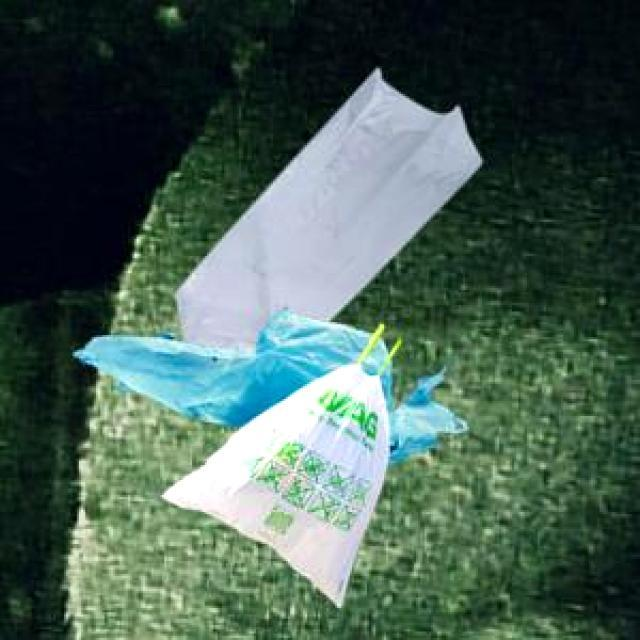Plastic_Bag: (172, 65, 479, 351), (159, 321, 385, 605), (71, 306, 464, 460)
